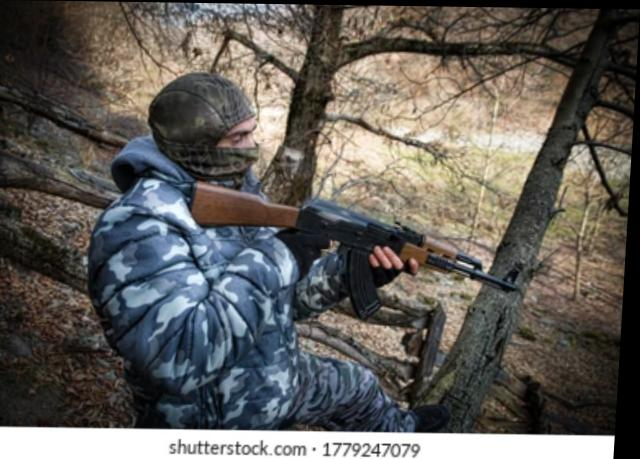other: (79, 68, 333, 421)
